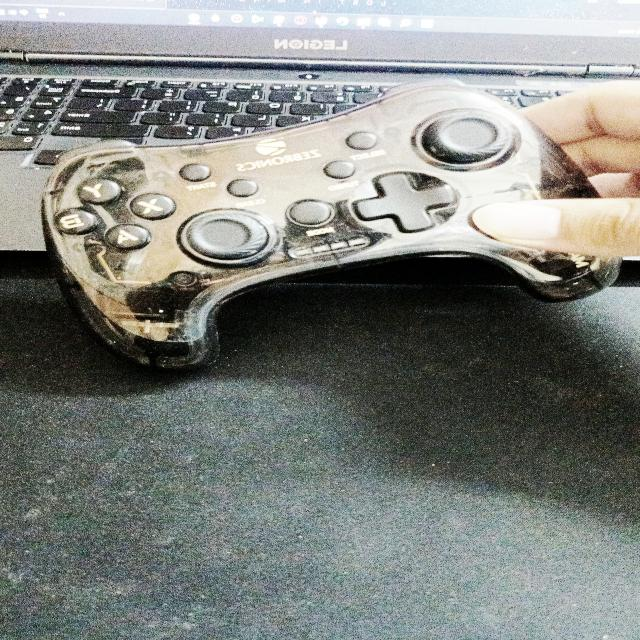gamepad: (40, 78, 624, 372)
